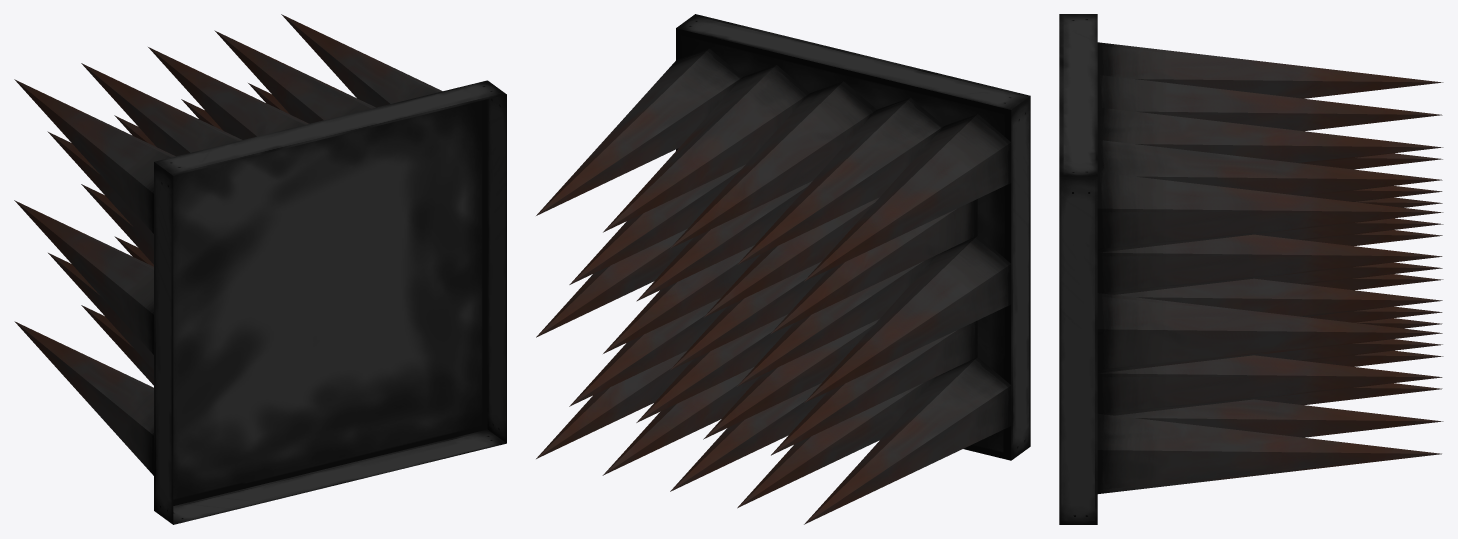
Rendered from spikes.dae.
3 views of the same model, side by side, from view 1: azimuth 30°, elevation 25°; view 2: azimuth 150°, elevation 25°; view 3: azimuth 270°, elevation 25° (orthographic).
Visible parts, largest first — view 1: Plane_002, Circle_002; view 2: Circle_002, Plane_002; view 3: Circle_002, Plane_002.
Boxes of the visible parts, x1,y1,x2,y2 form: Plane_002: [154, 80, 506, 524]; Circle_002: [14, 14, 442, 475]; Circle_002: [536, 48, 1011, 524]; Plane_002: [676, 14, 1030, 460]; Circle_002: [1097, 42, 1443, 493]; Plane_002: [1059, 14, 1097, 524].
Size of the model in its own units: 2 by 2 by 2.
1 material, 1 textured.
